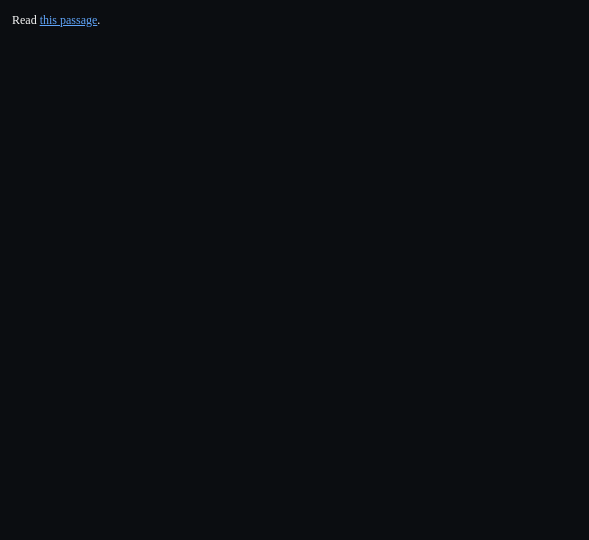
Scenario: global editor link interactions › opens the dot-free edit panel beside the hovered link
Hover over the link with class "external-link" at (69, 20), box [40,13,97,27]
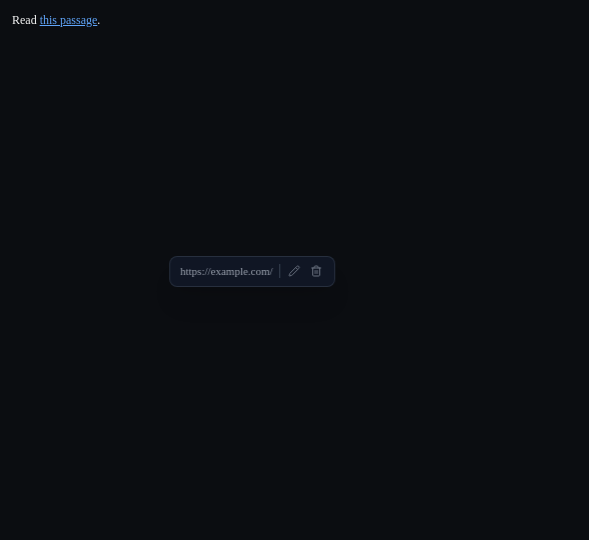
Press the mouse on the button named "Edit link" at (294, 271), box [286,263,302,279]
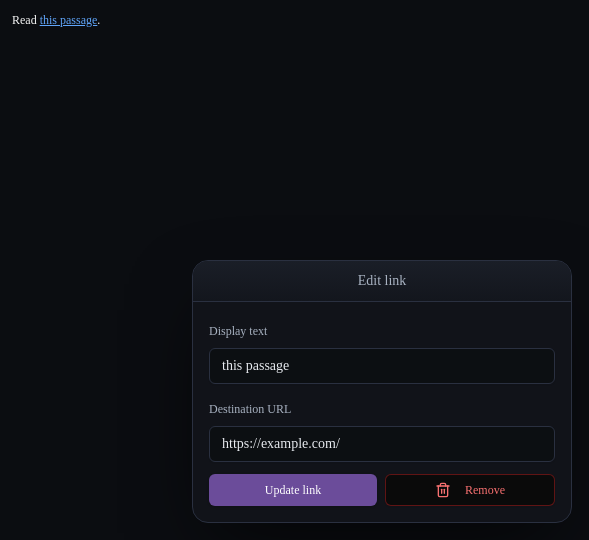
Result: the button with test id "button-set-link" is shown at [209,474,377,506]
Result: the button with test id "button-remove-link" is shown at [385,474,555,506]
